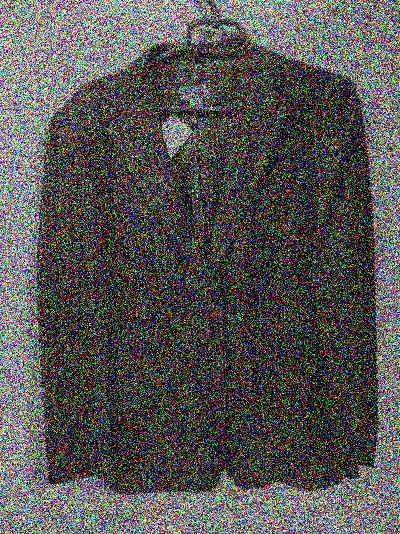Blazer: (21, 35, 385, 499)
